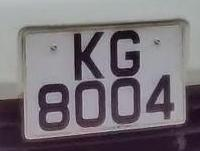0: (68, 74, 112, 133), (107, 75, 146, 127)
4: (144, 72, 180, 123)
8: (32, 74, 73, 138)
G: (105, 27, 149, 80)
K: (69, 29, 110, 84)
